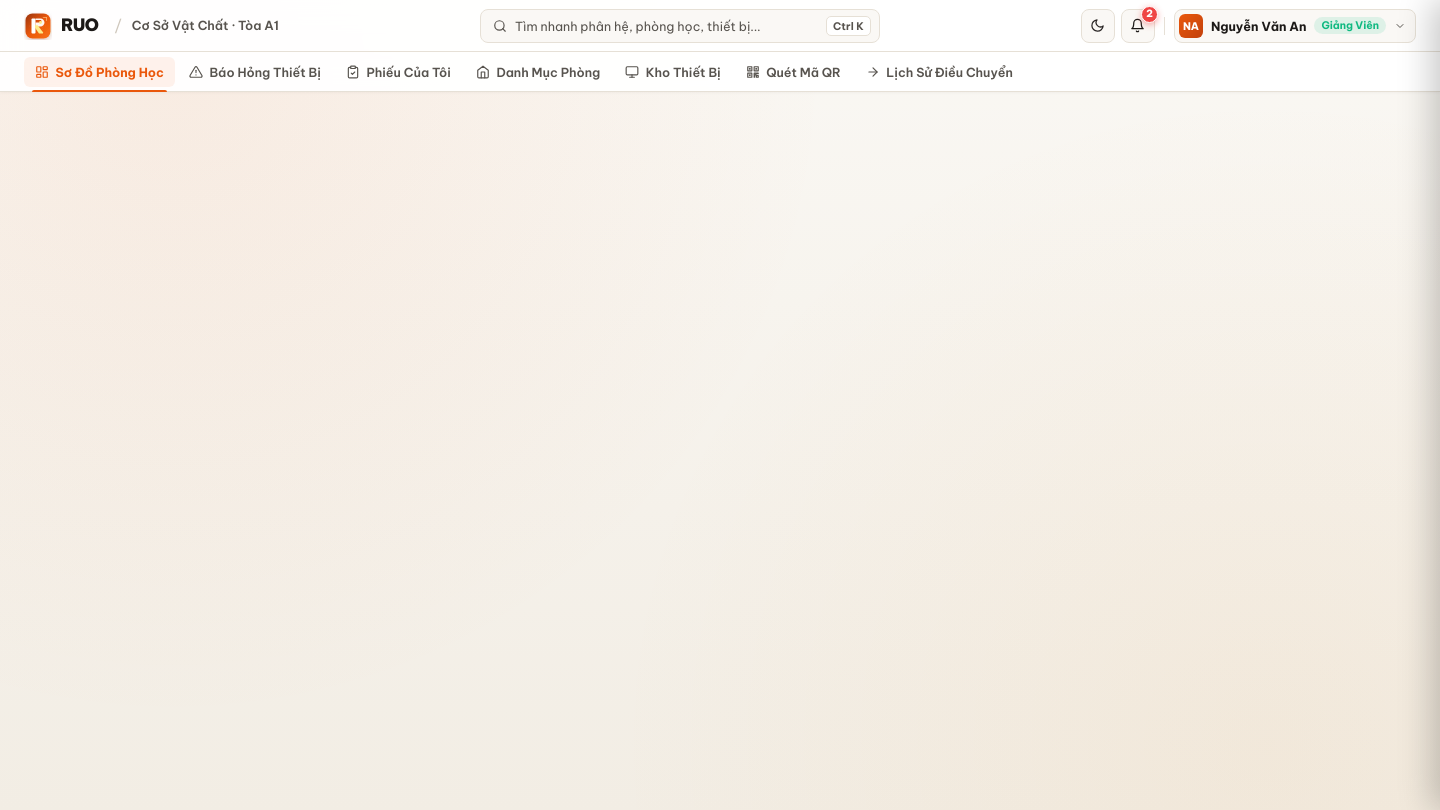
it: AppHeader UX & Keyboard Interactions › closes profile popover when clicking outside or pressing Escape
This screenshot has width=1440, height=810.
Click the button with aria-label "Hồ sơ tài khoản" at (1295, 26), box x1=1174 y1=8 x2=1416 y2=42
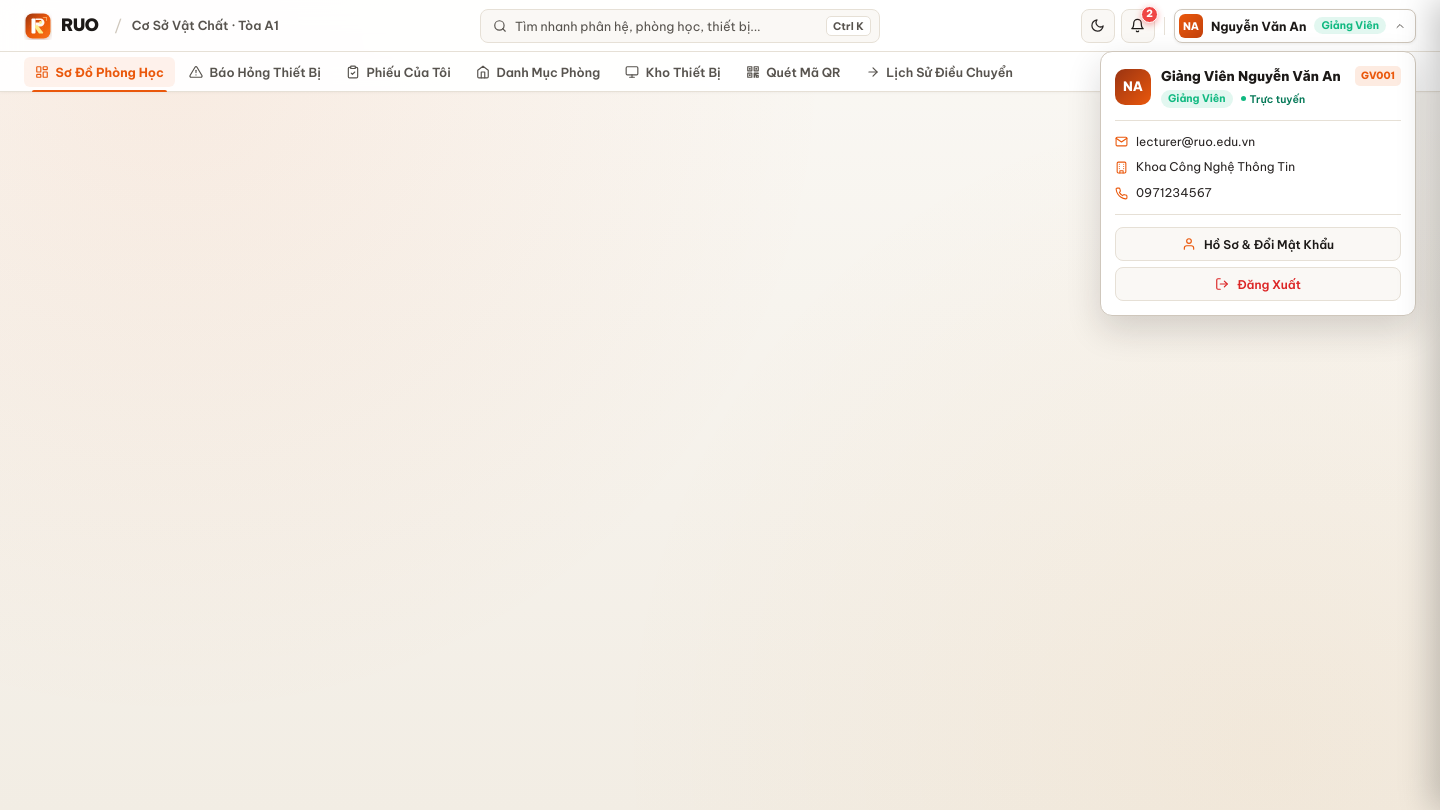
Check: the text "Hồ Sơ & Đổi Mật Khẩu" is shown, box x1=1204 y1=237 x2=1334 y2=252
Press the mouse on the element that starts with "RUO" at (720, 405), box x1=0 y1=0 x2=1439 y2=809
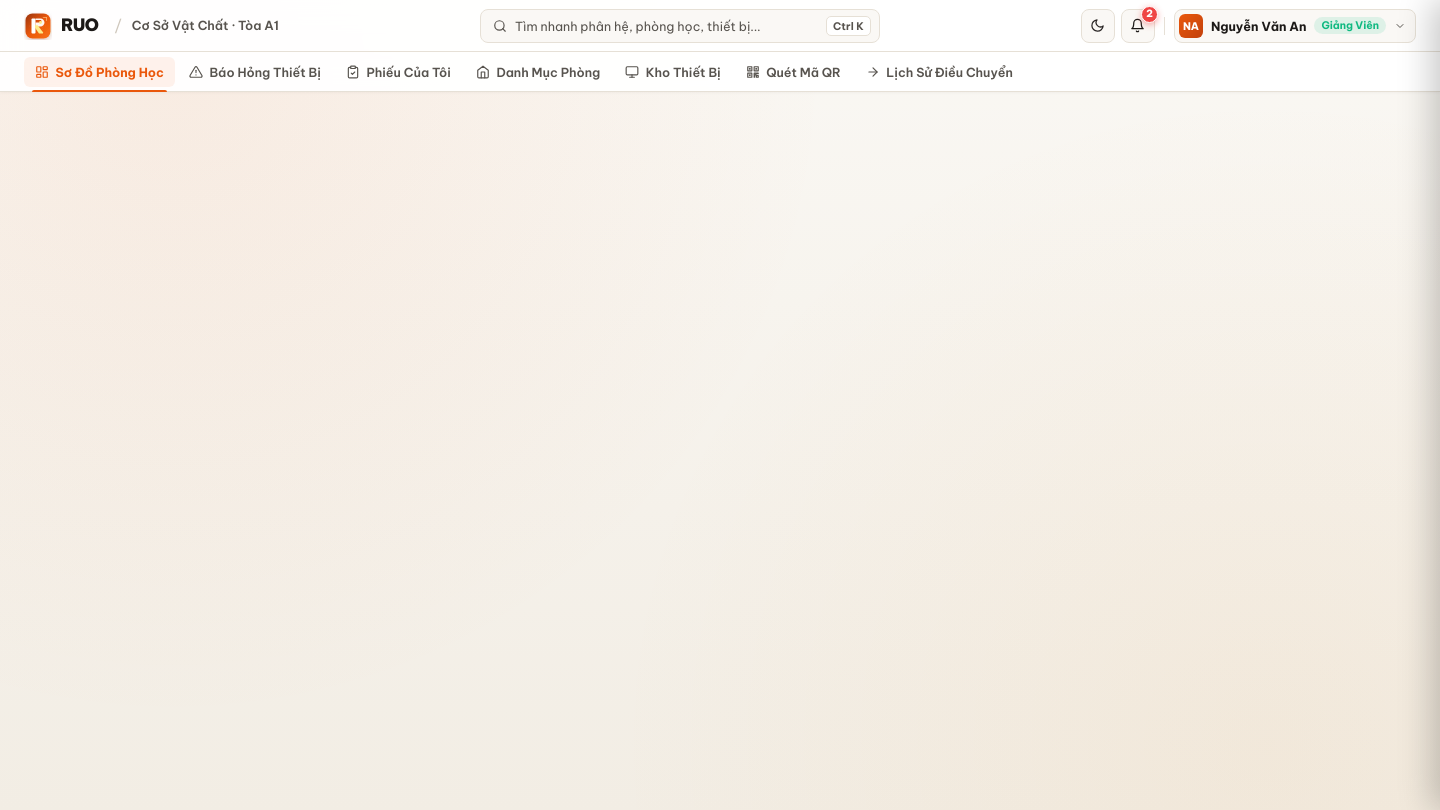
Check: the button "Hồ Sơ & Đổi Mật Khẩu" is gone
